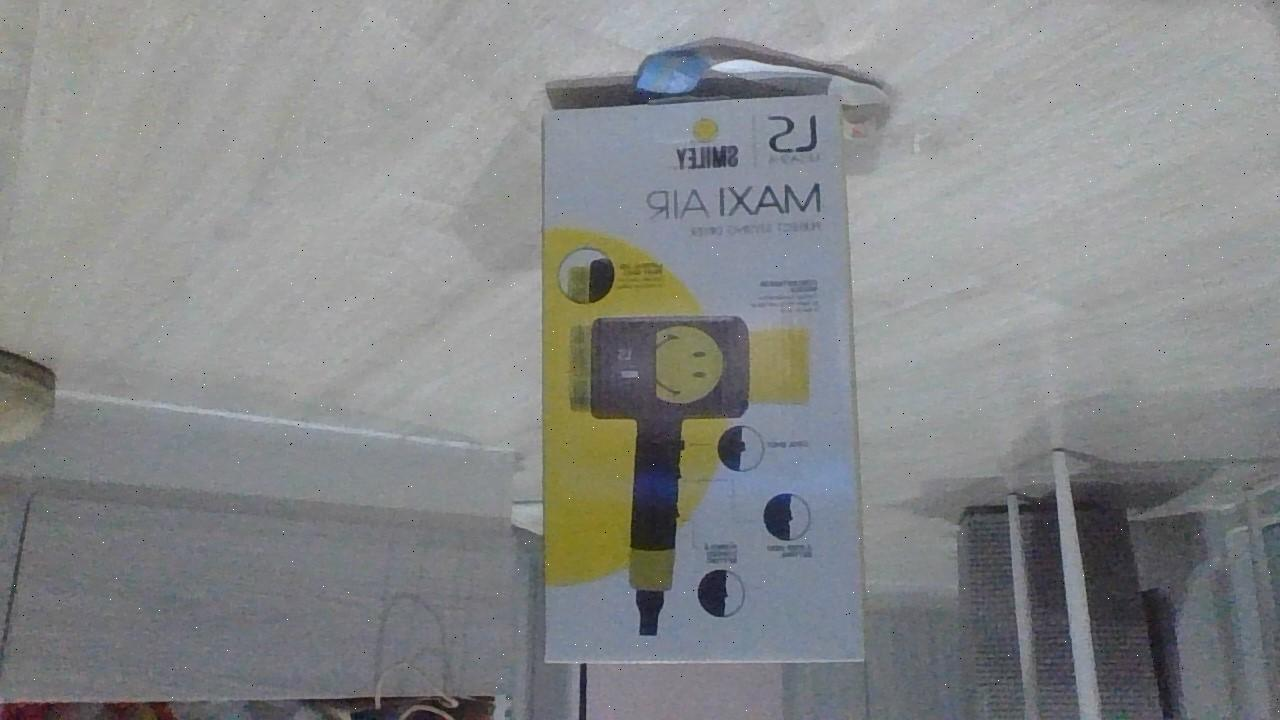IRON: (535, 82, 870, 669)
